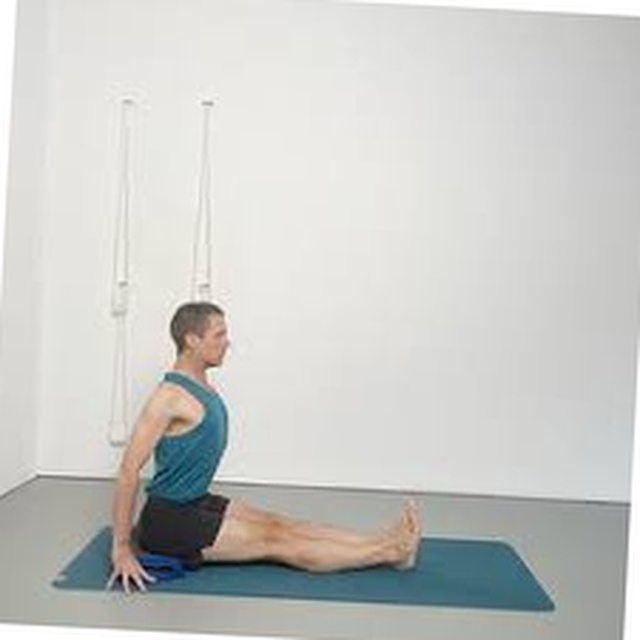Staff_Pose: (102, 301, 420, 598)
